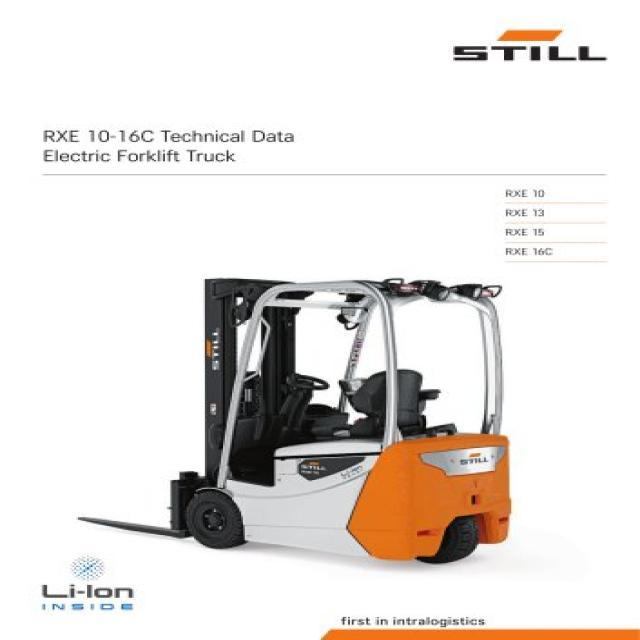forklift: (153, 269, 522, 580)
